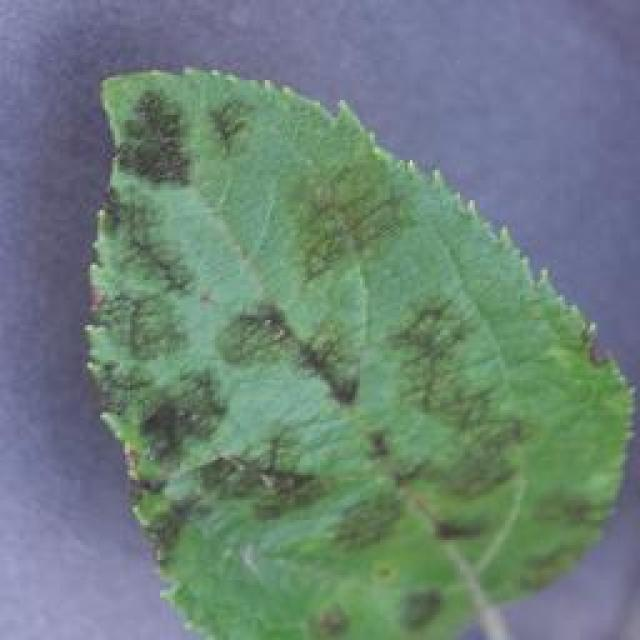apple scab disease: (80, 62, 638, 638)
